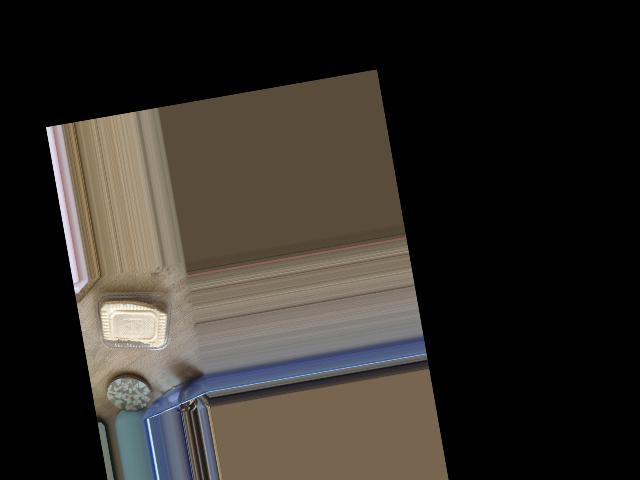cheese: (79, 266, 172, 365)
